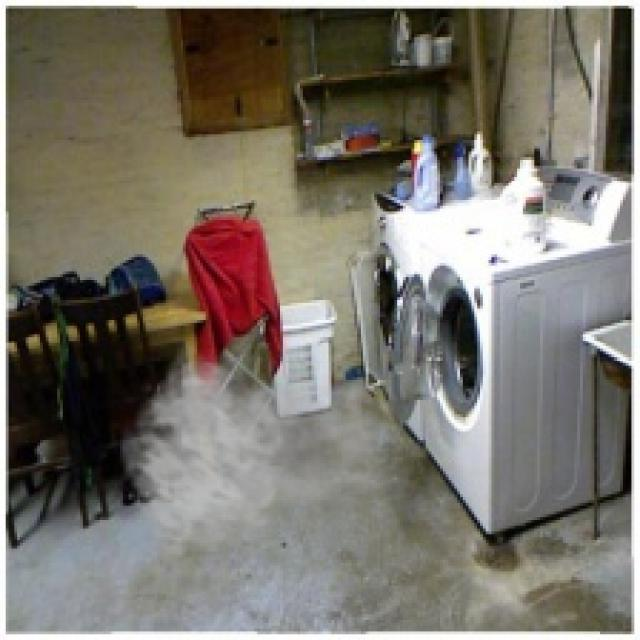Smoke: (117, 337, 397, 560)
